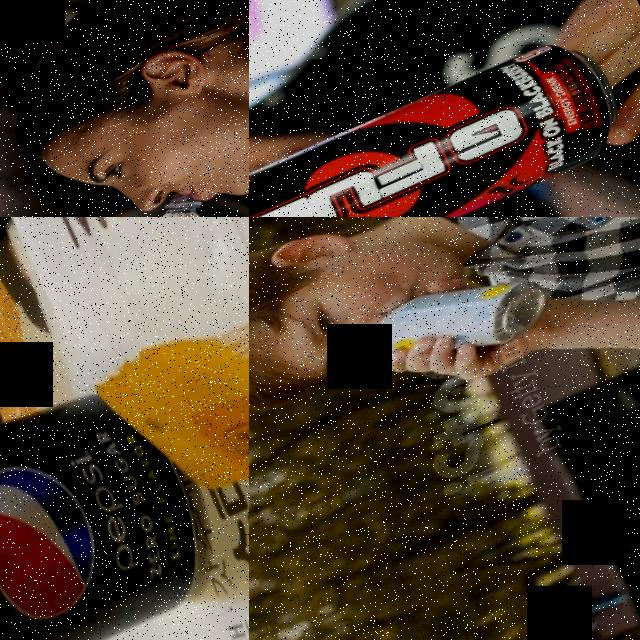can: (249, 22, 638, 217), (0, 348, 236, 640), (364, 249, 554, 385)
